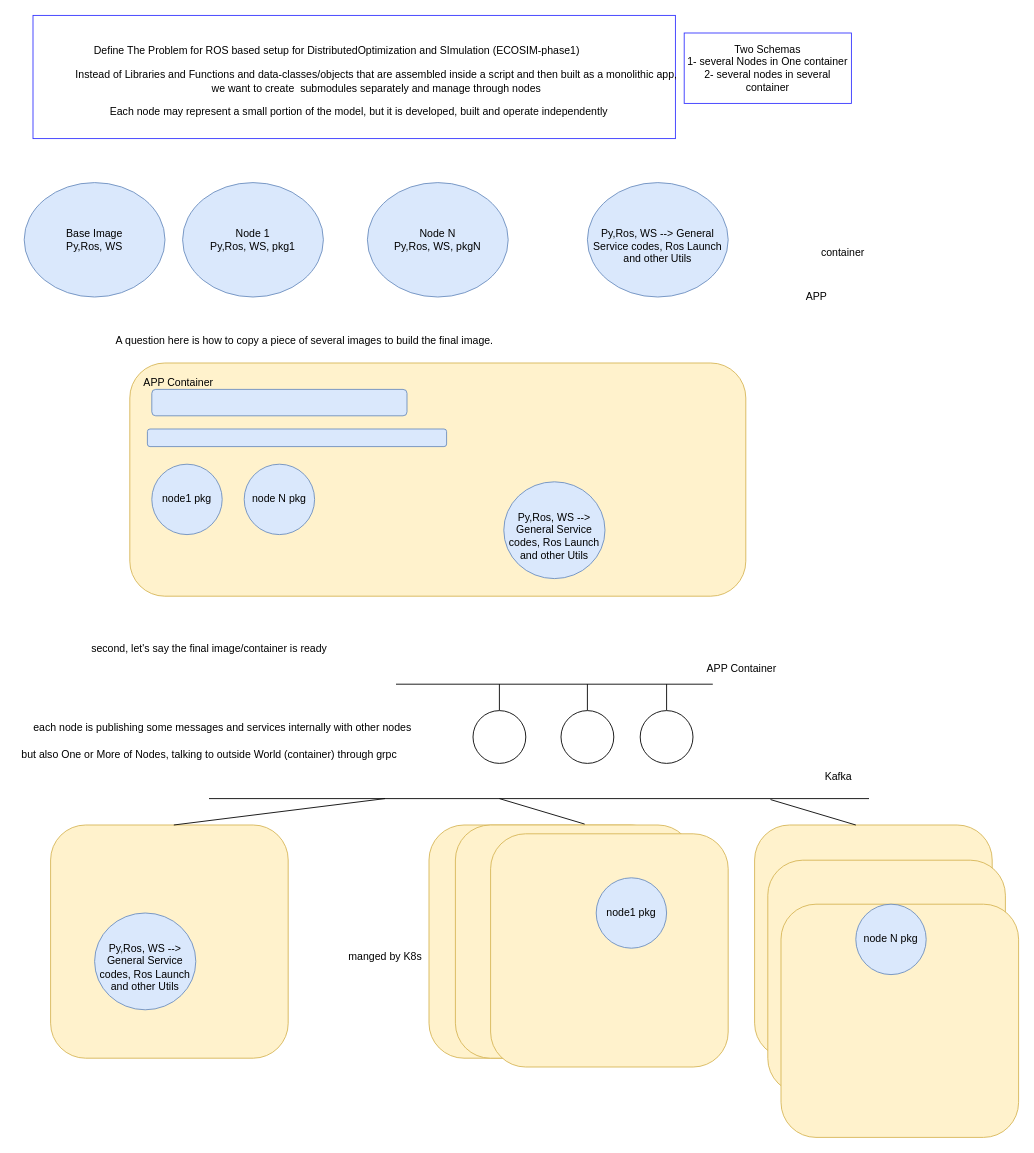
This 1034x1153 diagram has some shape labels left out. The box of each missing label's shape, as (x1, y1, x2, y2) in pixels:
Install General Service Utils and Launch codes?: (147, 428, 447, 447)
Py, ROS, WS, Essentials: (151, 389, 407, 416)
